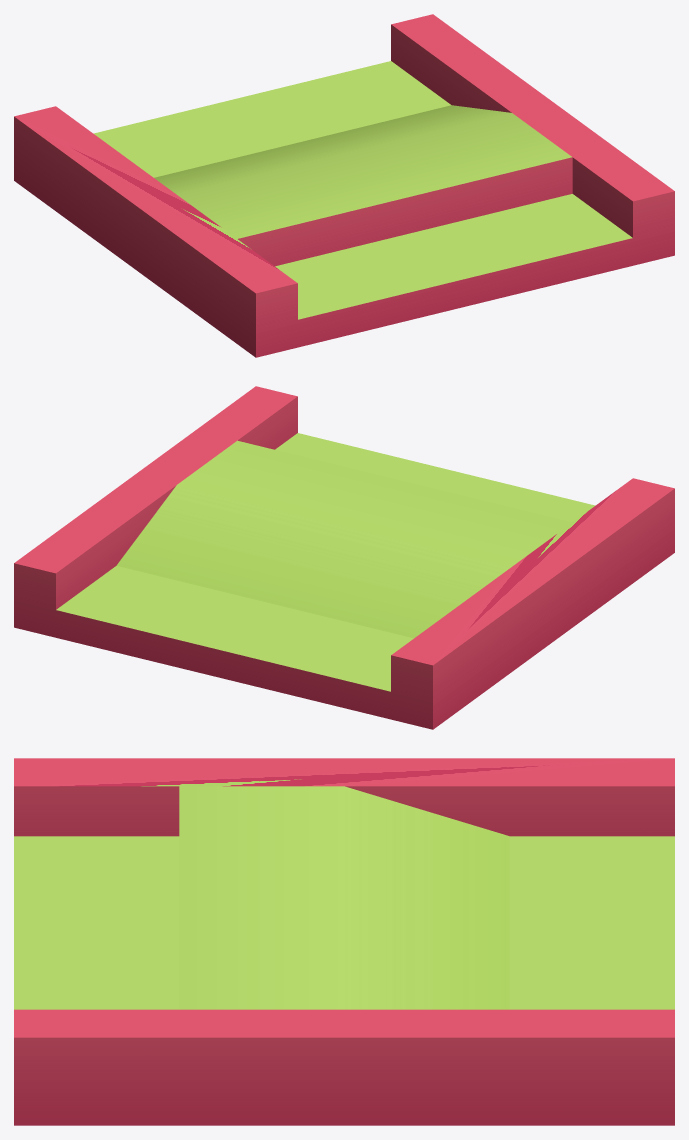
Rendered from ramp-square.gltf.
3 views of the same model, one above another, from view 1: azimuth 30°, elevation 25°; view 2: azimuth 150°, elevation 25°; view 3: azimuth 270°, elevation 25° (orthographic). The views are drawn at different scales.
Parts seen in each view (by area): view 1: ramp-square; view 2: ramp-square; view 3: ramp-square.
Part boxes in pixels (x1,y1,x2,y2): ramp-square: [14, 14, 674, 357]; ramp-square: [14, 386, 674, 729]; ramp-square: [14, 758, 674, 1125].
Size of the model in its own units: 0.9999 by 0.1467 by 0.9999.
1 material, 1 textured.
